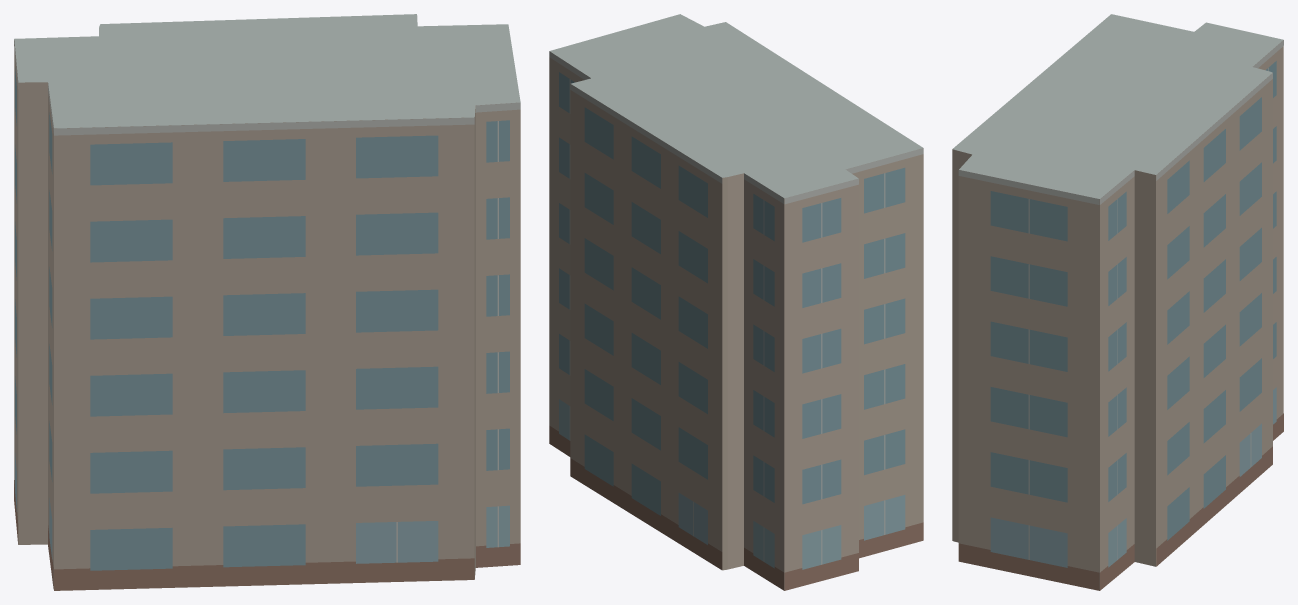
Rendered from survey-upis-32891612.glb.
3 views of the same model, side by side, from view 1: azimuth 30°, elevation 25°; view 2: azimuth 150°, elevation 25°; view 3: azimuth 270°, elevation 25° (orthographic). The views are drawn at different scales.
Visible parts, largest first — view 1: survey-upis-32891612.tmp; view 2: survey-upis-32891612.tmp; view 3: survey-upis-32891612.tmp.
Boxes of the visible parts, box(x1,y1,x2,y2) form: survey-upis-32891612.tmp: box(14, 14, 520, 590); survey-upis-32891612.tmp: box(549, 14, 923, 590); survey-upis-32891612.tmp: box(952, 14, 1283, 590).
Bounding box in the file's own units: 16.02 × 15.8 × 12.13.
